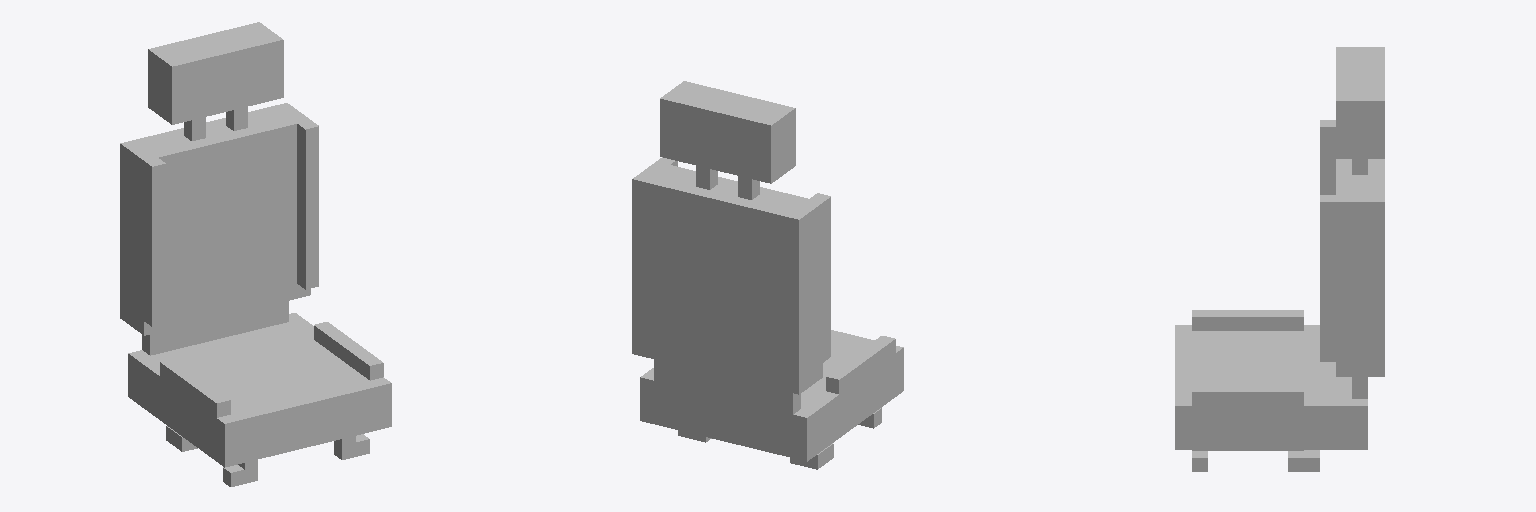
Rendered from seat.obj.
The picture shows the model from 3 angles: view 1: azimuth 30°, elevation 25°; view 2: azimuth 150°, elevation 25°; view 3: azimuth 270°, elevation 25°; orthographic projection.
Parts seen in each view (by area): view 1: Back, SeatCushion, HeadRest, WBackWall, EBackWall, LowerBrace, EArm, WArm, NEFoot, NWFoot; view 2: Back, SeatCushion, HeadRest, LowerBrace, EArm, EBackWall; view 3: SeatCushion, Back, HeadRest, WBackWall, WArm, EArm, EBackWall, SWFoot.
Part boxes in pixels (left/top/right/bottom): Back: left=120, top=103, right=310, bottom=335; SeatCushion: left=128, top=313, right=391, bottom=467; HeadRest: left=148, top=22, right=283, bottom=124; WBackWall: left=297, top=120, right=318, bottom=289; EBackWall: left=144, top=158, right=165, bottom=326; LowerBrace: left=142, top=301, right=288, bottom=355; EArm: left=160, top=359, right=230, bottom=417; WArm: left=314, top=322, right=383, bottom=380; NEFoot: left=223, top=465, right=257, bottom=486; NWFoot: left=334, top=434, right=369, bottom=459; Back: left=632, top=162, right=822, bottom=394; SeatCushion: left=640, top=330, right=903, bottom=461; HeadRest: left=660, top=81, right=795, bottom=183; LowerBrace: left=654, top=359, right=800, bottom=414; EArm: left=826, top=336, right=895, bottom=394; EBackWall: left=810, top=193, right=830, bottom=362; SeatCushion: left=1175, top=325, right=1367, bottom=449; Back: left=1336, top=159, right=1384, bottom=376; HeadRest: left=1336, top=47, right=1384, bottom=158; WBackWall: left=1320, top=195, right=1335, bottom=361; WArm: left=1192, top=385, right=1303, bottom=405; EArm: left=1192, top=310, right=1303, bottom=330; EBackWall: left=1320, top=120, right=1335, bottom=194; SWFoot: left=1288, top=450, right=1319, bottom=471.
Size of the model in its own units: 0.75 by 1.56 by 0.8125.